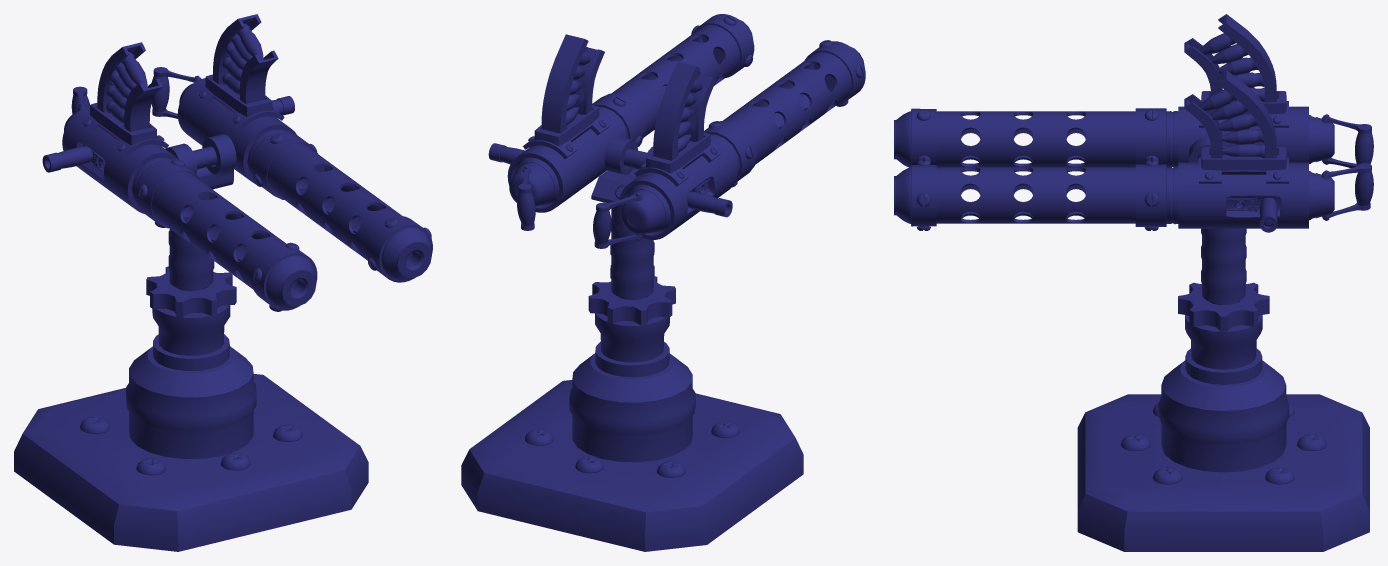
File: Machine+gun+turret.fbx
3 views of the same model, side by side, from view 1: azimuth 30°, elevation 25°; view 2: azimuth 150°, elevation 25°; view 3: azimuth 270°, elevation 25° (orthographic). The views are drawn at different scales.
Parts seen in each view (by area): view 1: BOT1_LOW, BOT2_LOW, TOP12_LOW, TOP4_LOW, TOP16_LOW, MID2_LOW, TOP14_LOW, TOP15_LOW, TOP18_LOW, TOP10_LOW, MID1_LOW, TOP13_LOW (+6 smaller); view 2: BOT1_LOW, BOT2_LOW, TOP12_LOW, TOP4_LOW, TOP16_LOW, MID2_LOW, TOP3_LOW, TOP15_LOW, MID1_LOW, TOP10_LOW, TOP13_LOW, BOT_BOLT_LOW (+6 smaller); view 3: BOT1_LOW, TOP12_LOW, BOT2_LOW, TOP4_LOW, TOP16_LOW, TOP10_LOW, TOP18_LOW, MID2_LOW, TOP15_LOW, TOP13_LOW, MID1_LOW, TOP3_LOW (+5 smaller).
Boxes of the visible parts, x1=… form: BOT1_LOW: x1=14, y1=374, x2=368, y2=551; BOT2_LOW: x1=126, y1=305, x2=256, y2=458; TOP12_LOW: x1=151, y1=143, x2=412, y2=289; TOP4_LOW: x1=62, y1=78, x2=296, y2=213; TOP16_LOW: x1=97, y1=14, x2=278, y2=132; MID2_LOW: x1=165, y1=134, x2=236, y2=291; TOP14_LOW: x1=266, y1=227, x2=431, y2=308; TOP15_LOW: x1=78, y1=74, x2=284, y2=158; TOP18_LOW: x1=106, y1=24, x2=263, y2=123; TOP10_LOW: x1=132, y1=129, x2=317, y2=228; MID1_LOW: x1=146, y1=266, x2=236, y2=317; TOP13_LOW: x1=251, y1=216, x2=432, y2=310; BOT1_LOW: x1=461, y1=380, x2=803, y2=551; BOT2_LOW: x1=569, y1=313, x2=695, y2=462; TOP12_LOW: x1=611, y1=25, x2=851, y2=164; TOP4_LOW: x1=507, y1=107, x2=737, y2=239; TOP16_LOW: x1=541, y1=34, x2=716, y2=160; MID2_LOW: x1=591, y1=136, x2=654, y2=299; TOP3_LOW: x1=509, y1=157, x2=670, y2=240; TOP15_LOW: x1=523, y1=105, x2=722, y2=186; MID1_LOW: x1=588, y1=276, x2=675, y2=325; TOP10_LOW: x1=592, y1=93, x2=757, y2=182; TOP13_LOW: x1=693, y1=14, x2=865, y2=105; BOT_BOLT_LOW: x1=525, y1=421, x2=739, y2=477; BOT1_LOW: x1=1077, y1=394, x2=1369, y2=551; TOP12_LOW: x1=936, y1=111, x2=1135, y2=223; BOT2_LOW: x1=1158, y1=315, x2=1289, y2=472; TOP4_LOW: x1=1178, y1=106, x2=1308, y2=228; TOP16_LOW: x1=1184, y1=14, x2=1276, y2=158; TOP10_LOW: x1=1135, y1=108, x2=1178, y2=226; TOP18_LOW: x1=1199, y1=33, x2=1264, y2=158; MID2_LOW: x1=1188, y1=137, x2=1246, y2=304; TOP15_LOW: x1=1199, y1=91, x2=1288, y2=183; TOP13_LOW: x1=911, y1=108, x2=936, y2=226; MID1_LOW: x1=1178, y1=282, x2=1269, y2=331; TOP3_LOW: x1=1309, y1=114, x2=1334, y2=220.
Size of the model in its own units: 24.11 by 40.3 by 39.52.
